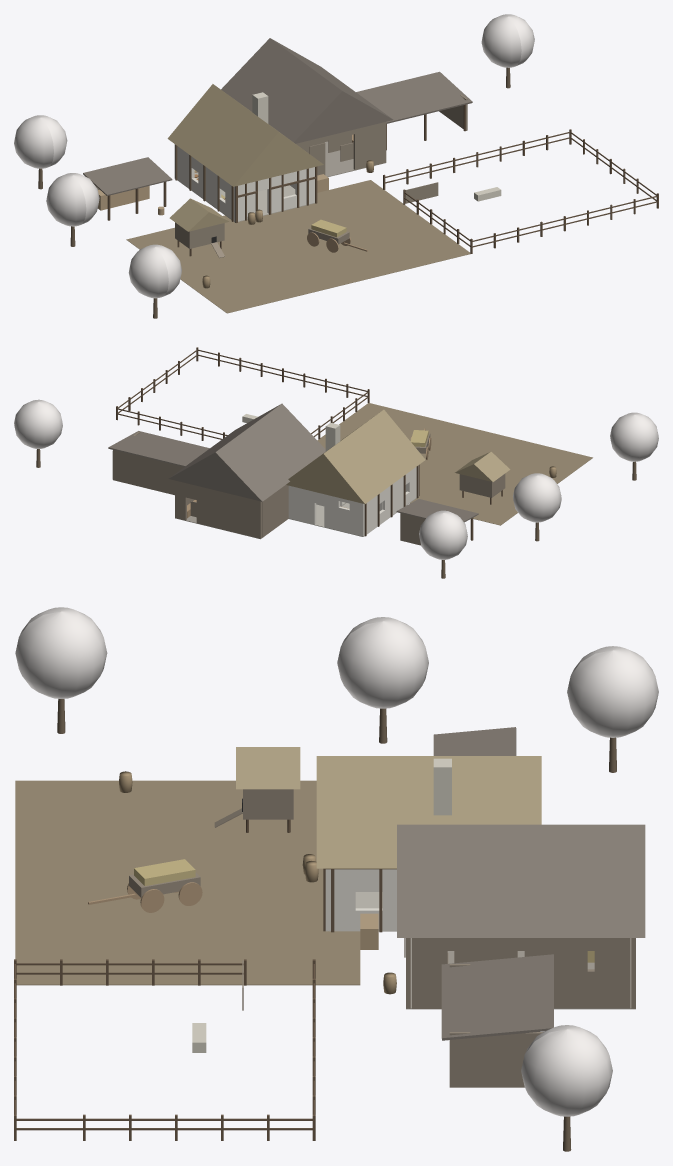
Rendered from dairy-farm.glb.
The picture shows the model from 3 angles, top to bottom: view 1: azimuth 30°, elevation 25°; view 2: azimuth 150°, elevation 25°; view 3: azimuth 270°, elevation 25°; orthographic projection. The views are drawn at different scales.
Visible parts, largest first — view 1: Back fence rail high; view 2: Back fence rail high; view 3: Back fence rail high.
Boxes of the visible parts, x1=… form: Back fence rail high: x1=14, y1=14, x2=658, y2=318; Back fence rail high: x1=14, y1=347, x2=658, y2=578; Back fence rail high: x1=14, y1=607, x2=658, y2=1151.
Size of the model in its own units: 47 by 7.21 by 28.06.
